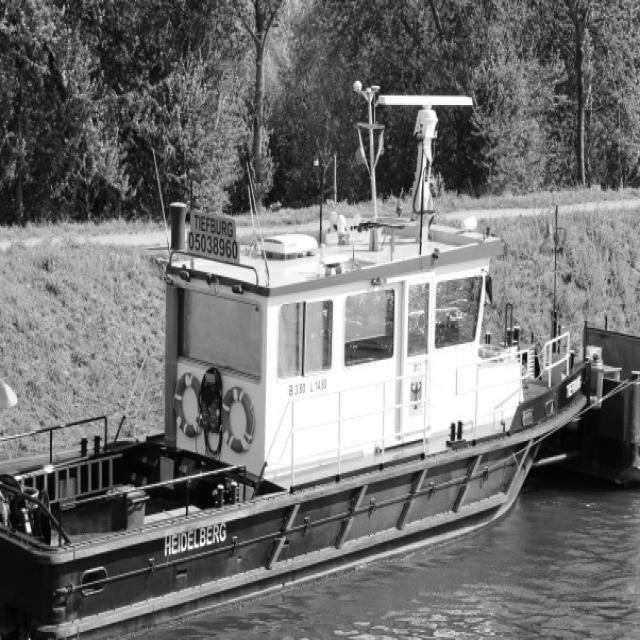tugboat: (1, 88, 609, 640)
